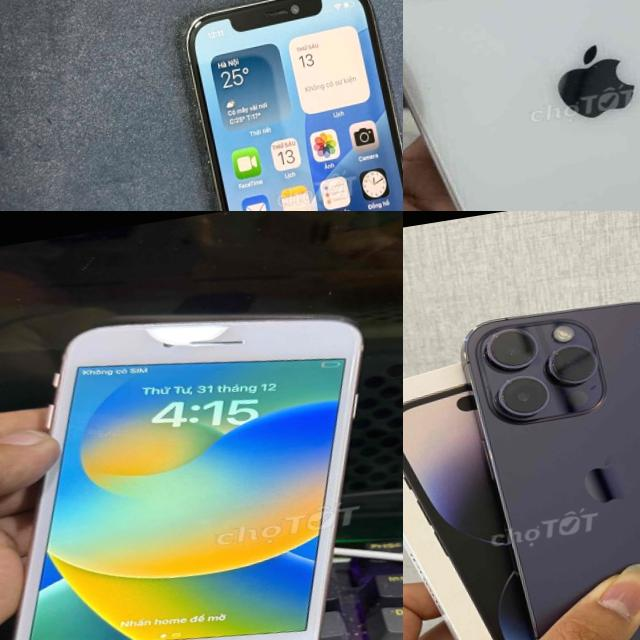gen_12_13: (403, 0, 640, 211), (177, 0, 403, 211)
gen_14: (455, 275, 640, 640)
gen_7_8: (14, 318, 362, 640)
